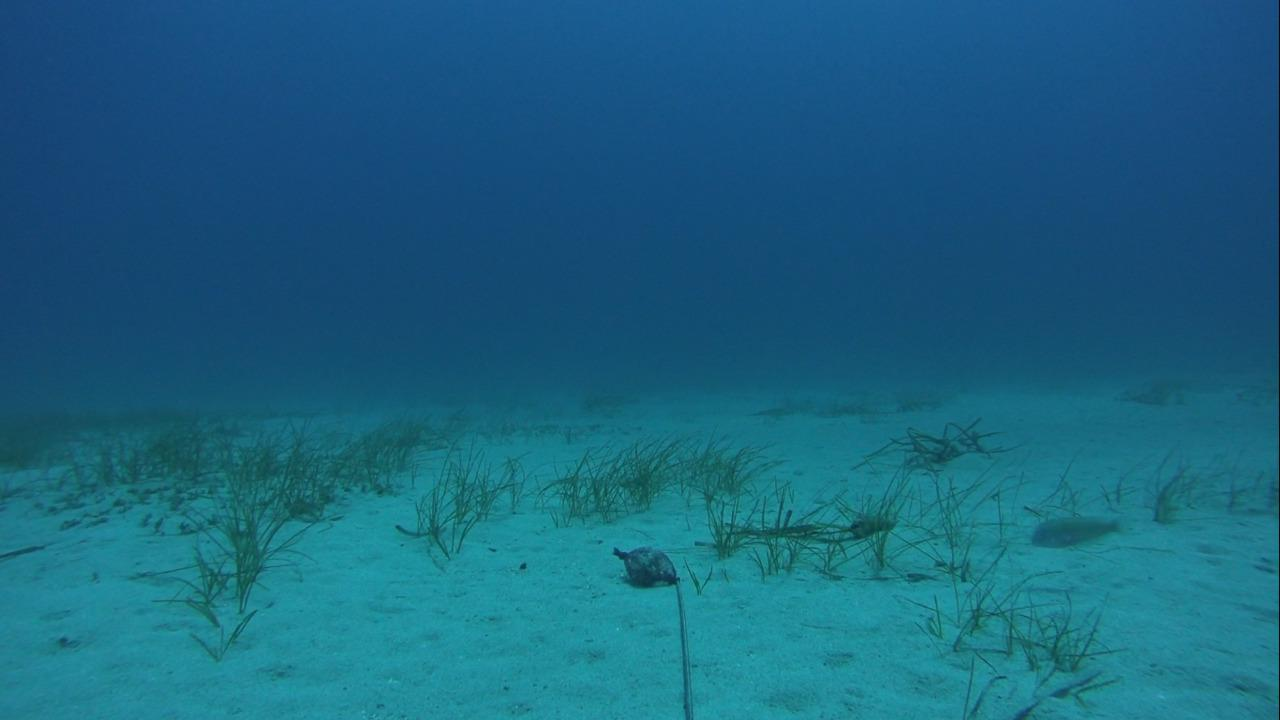raor: (1029, 512, 1124, 547)
